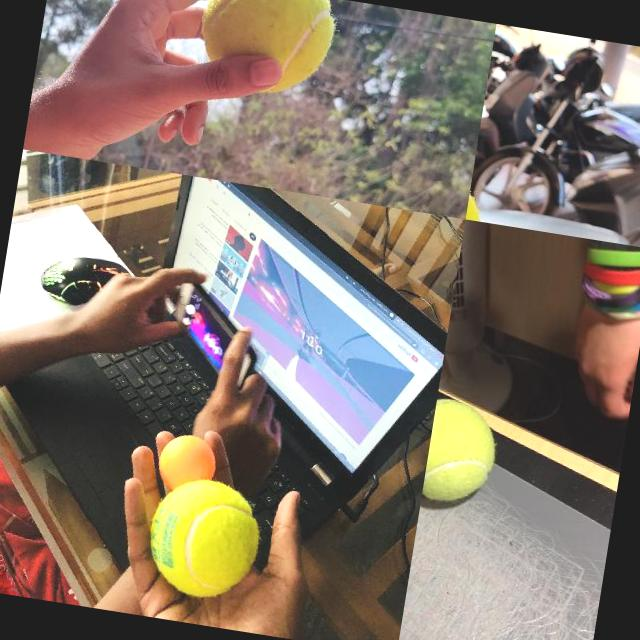Tennis Ball: (142, 473, 267, 603), (192, 0, 339, 102), (422, 396, 503, 511)
